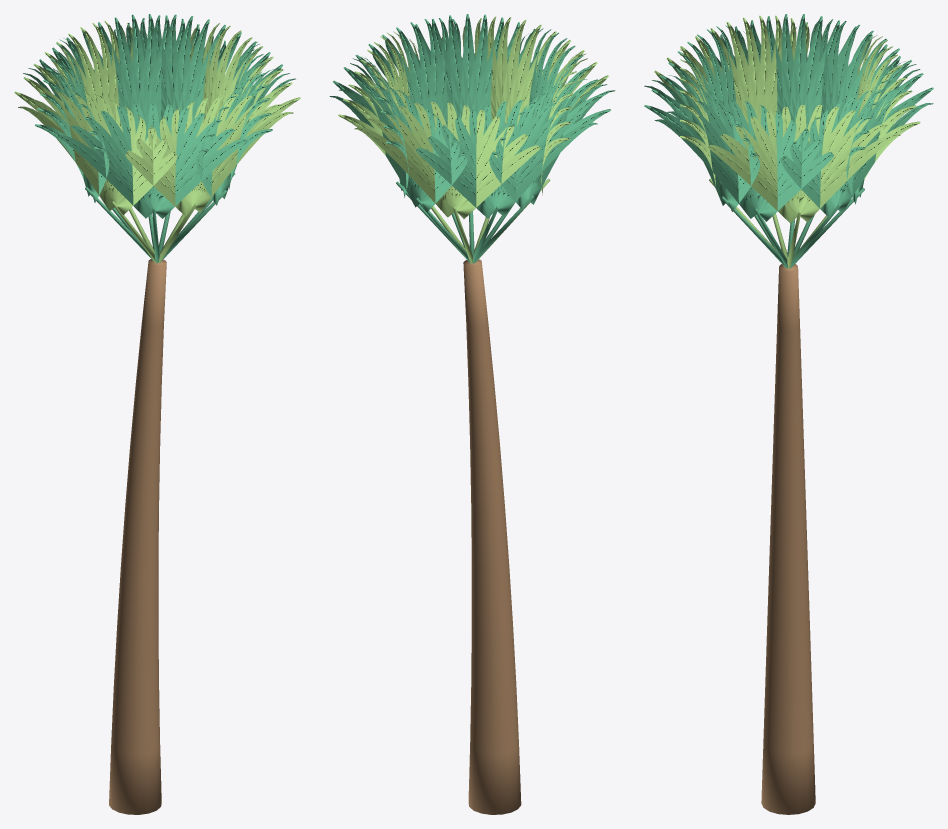
File: costapalmate_fan_palm_tropical_island_and_palm_trees_6800.glb
The picture shows the model from 3 angles, left to right: view 1: azimuth 30°, elevation 25°; view 2: azimuth 150°, elevation 25°; view 3: azimuth 270°, elevation 25°; orthographic projection. The views are drawn at different scales.
Parts seen in each view (by area): view 1: fan-palm; view 2: fan-palm; view 3: fan-palm.
Boxes of the visible parts, x1=… form: fan-palm: x1=14, y1=14, x2=300, y2=814; fan-palm: x1=329, y1=14, x2=615, y2=814; fan-palm: x1=644, y1=14, x2=933, y2=814.
Bounding box in the file's own units: 2.23 × 6.35 × 2.21.
